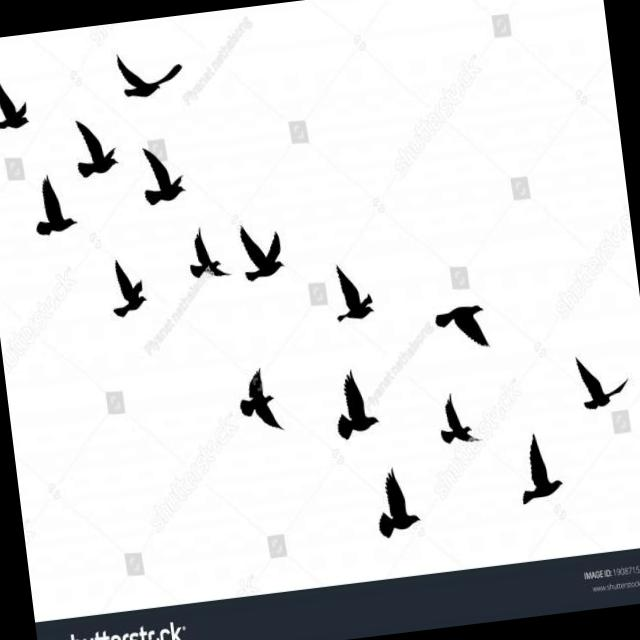bird: (48, 85, 130, 183), (314, 358, 390, 462), (162, 198, 232, 296), (366, 464, 432, 555), (108, 41, 188, 112), (222, 356, 289, 439), (323, 250, 388, 328), (232, 212, 296, 291), (23, 170, 87, 248), (568, 346, 632, 424), (422, 382, 491, 454), (94, 246, 154, 327), (424, 292, 494, 358), (132, 136, 192, 210), (514, 429, 572, 505), (0, 73, 39, 144)
